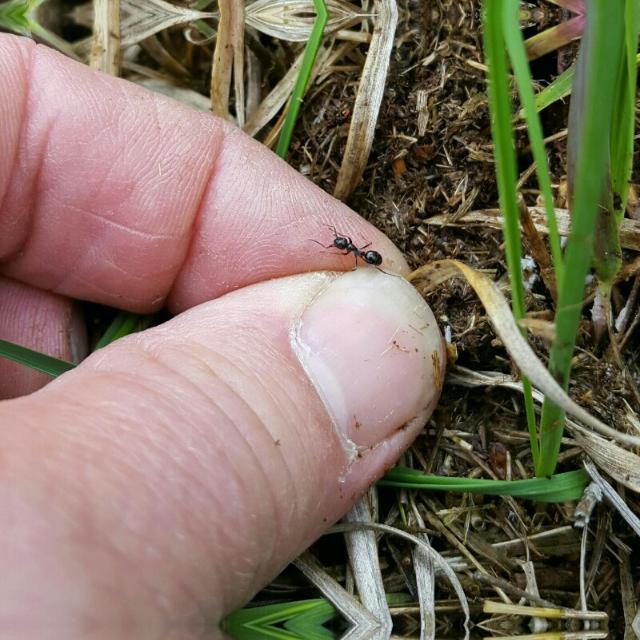Lasius: (322, 222, 398, 282)
